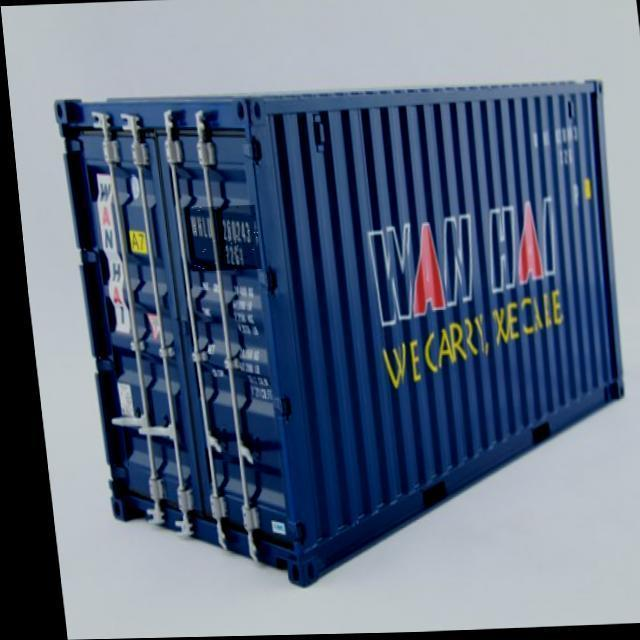container_number_h: (180, 205, 256, 272)
